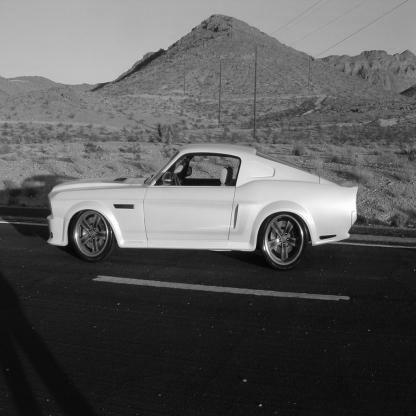car: (37, 136, 366, 280)
